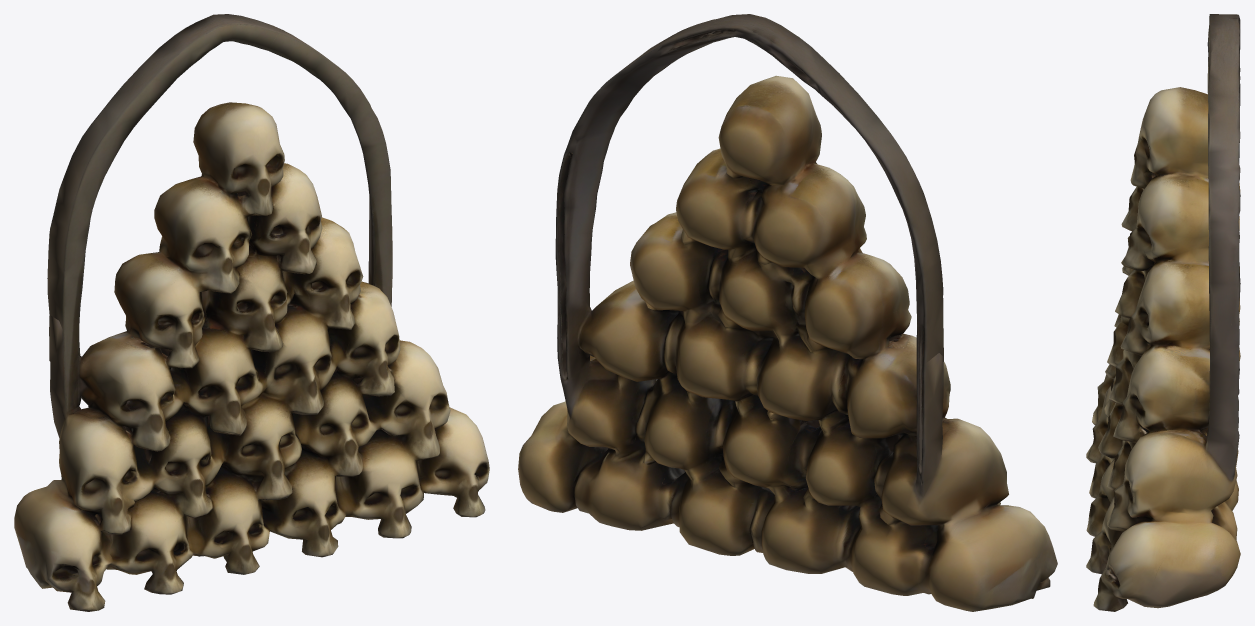
The model's file is skull_stack.glb.
The picture shows the model from 3 angles, left to right: view 1: azimuth 30°, elevation 25°; view 2: azimuth 150°, elevation 25°; view 3: azimuth 270°, elevation 25°; orthographic projection. The views are drawn at different scales.
Size of the model in its own units: 1.87 by 2 by 0.5696.
1 material, 1 textured.
